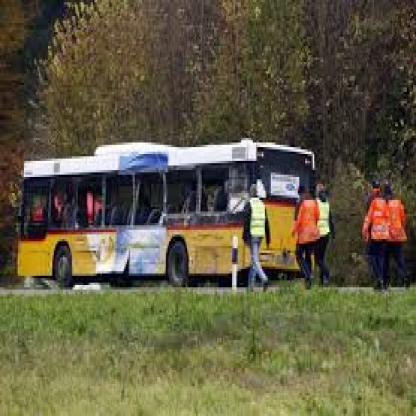accident: (37, 133, 212, 302)
